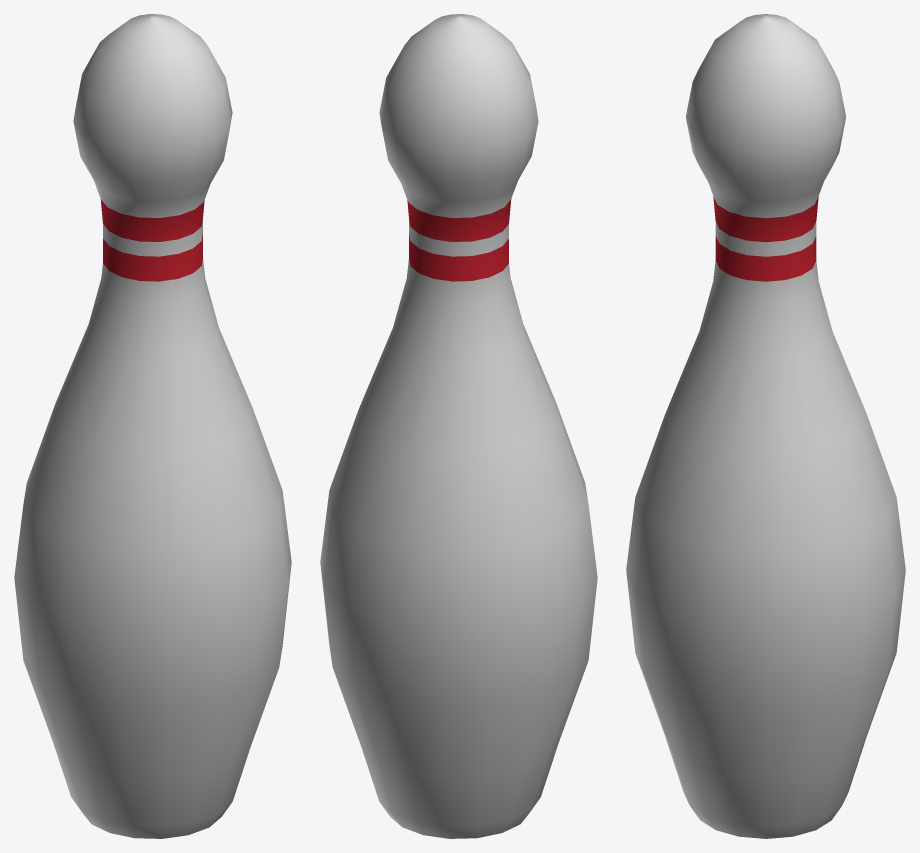
Rendered from BowlingPin.fbx.
3 renders of one model, left to right at view 1: azimuth 30°, elevation 25°; view 2: azimuth 150°, elevation 25°; view 3: azimuth 270°, elevation 25°, orthographic.
Visible parts, largest first — view 1: BowlingPin; view 2: BowlingPin; view 3: BowlingPin.
Part boxes in pixels (<box>): BowlingPin: <box>14,14,291,838</box>; BowlingPin: <box>320,14,597,838</box>; BowlingPin: <box>626,14,905,838</box>.
Size of the model in its own units: 12.2 by 38.1 by 12.2.
